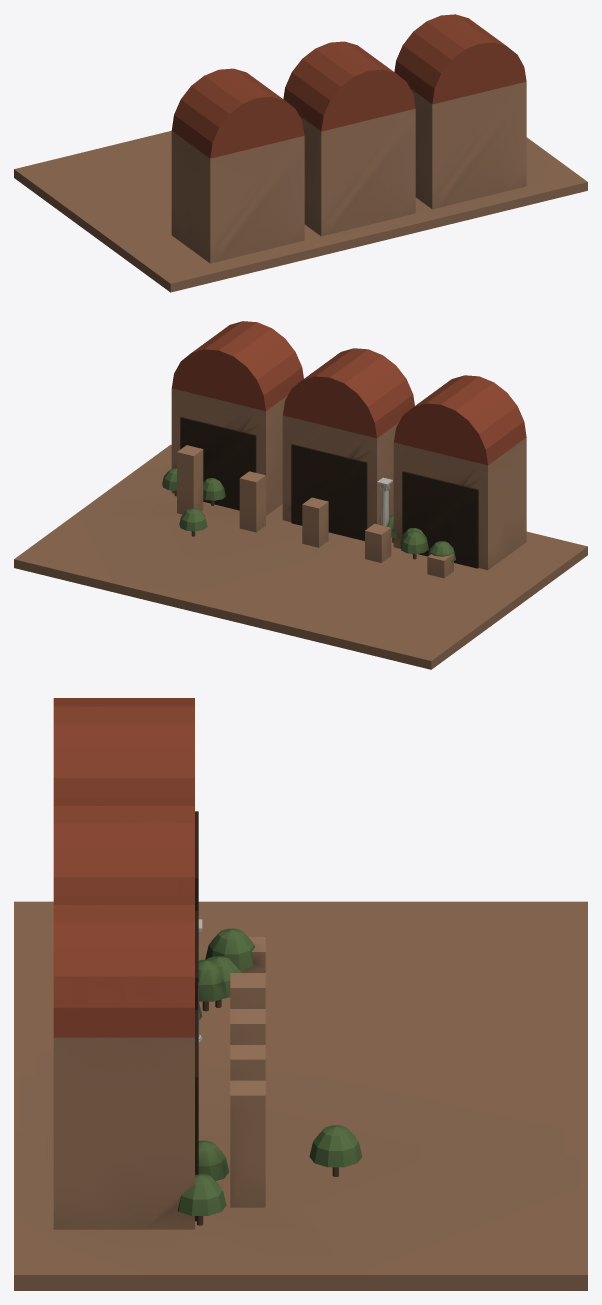
Rendered from basilica-of-maxentius-ruin.glb.
3 views of the same model, one above another, from view 1: azimuth 30°, elevation 25°; view 2: azimuth 150°, elevation 25°; view 3: azimuth 270°, elevation 25° (orthographic). The views are drawn at different scales.
Visible parts, largest first — view 1: p1_aisles, p0_platform, p2_stage2; view 2: p0_platform, p1_aisles, p2_stage2; view 3: p0_platform, p2_stage2, p1_aisles.
Part boxes in pixels (x1,y1,x2,y2): p1_aisles: (171, 81, 526, 263); p0_platform: (14, 131, 587, 292); p2_stage2: (171, 14, 526, 158); p0_platform: (14, 444, 587, 669); p1_aisles: (171, 388, 526, 578); p2_stage2: (162, 321, 526, 562); p0_platform: (14, 901, 587, 1290); p2_stage2: (53, 698, 362, 1225); p1_aisles: (53, 811, 265, 1229).
Bounding box in the file's own units: 100 × 37.3 × 65.
